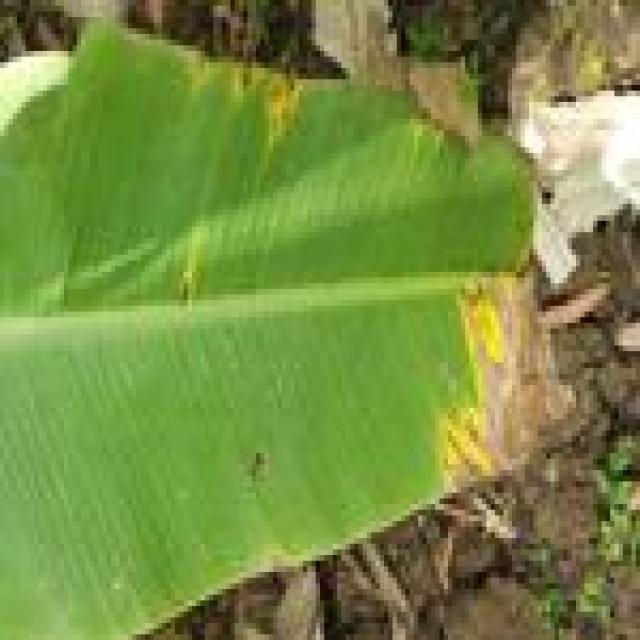Early_rust: (425, 244, 563, 504), (179, 39, 335, 165), (114, 244, 232, 327)
